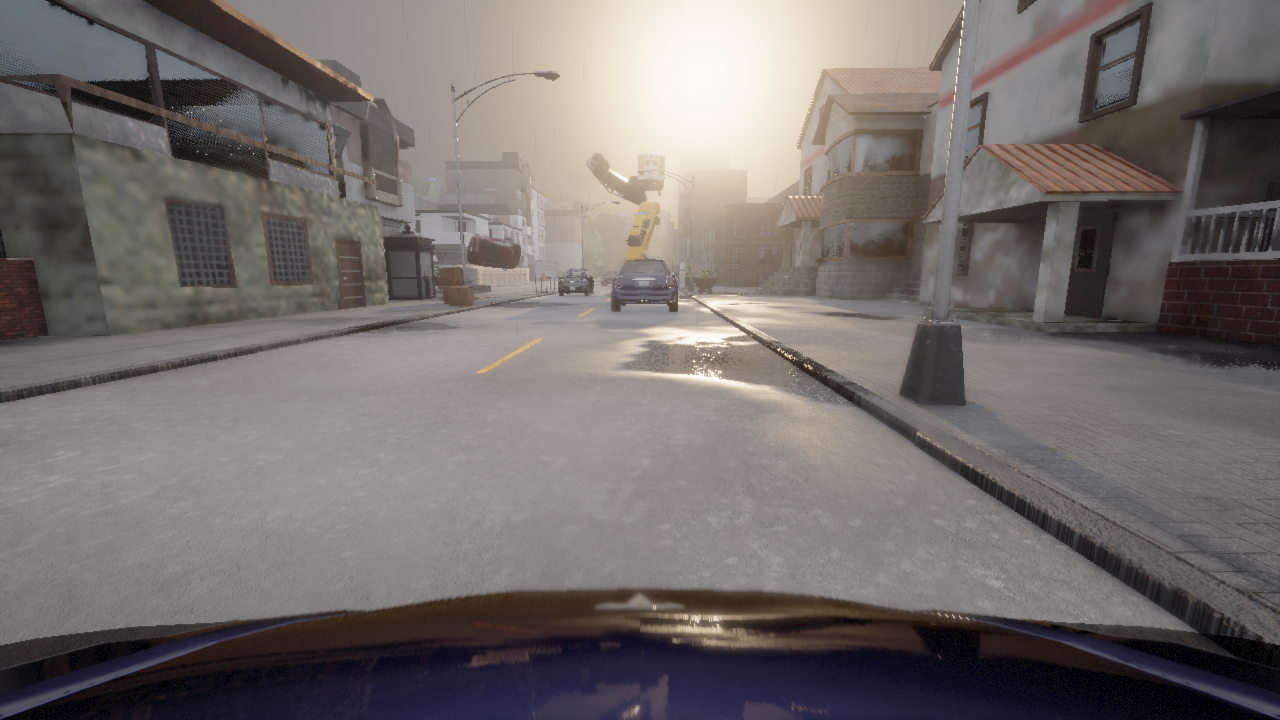cyclist: (0, 588, 1279, 719), (611, 258, 677, 311), (586, 153, 647, 205), (624, 202, 660, 262), (467, 233, 520, 270), (638, 154, 664, 195), (558, 269, 593, 295), (601, 271, 616, 285)
